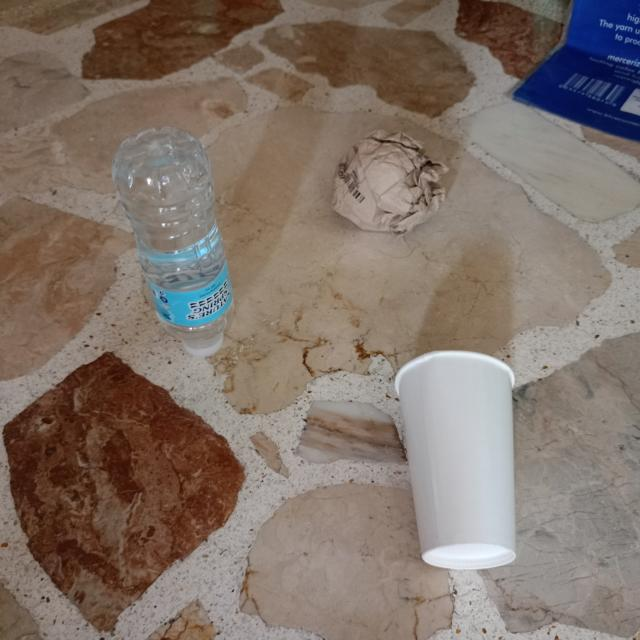Anorganik: (101, 120, 243, 371)
Organik: (383, 338, 530, 591), (320, 120, 457, 248)
